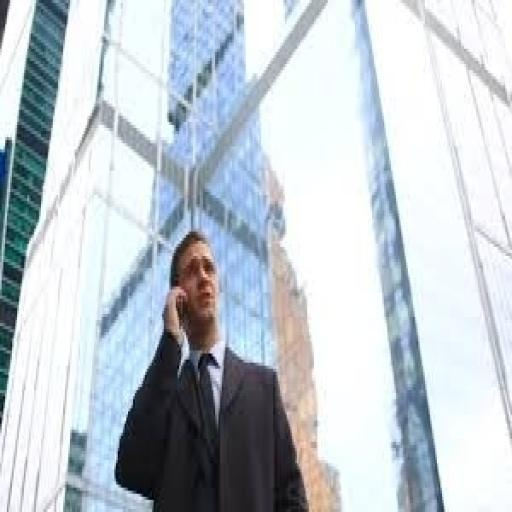calling: (112, 225, 310, 509)
